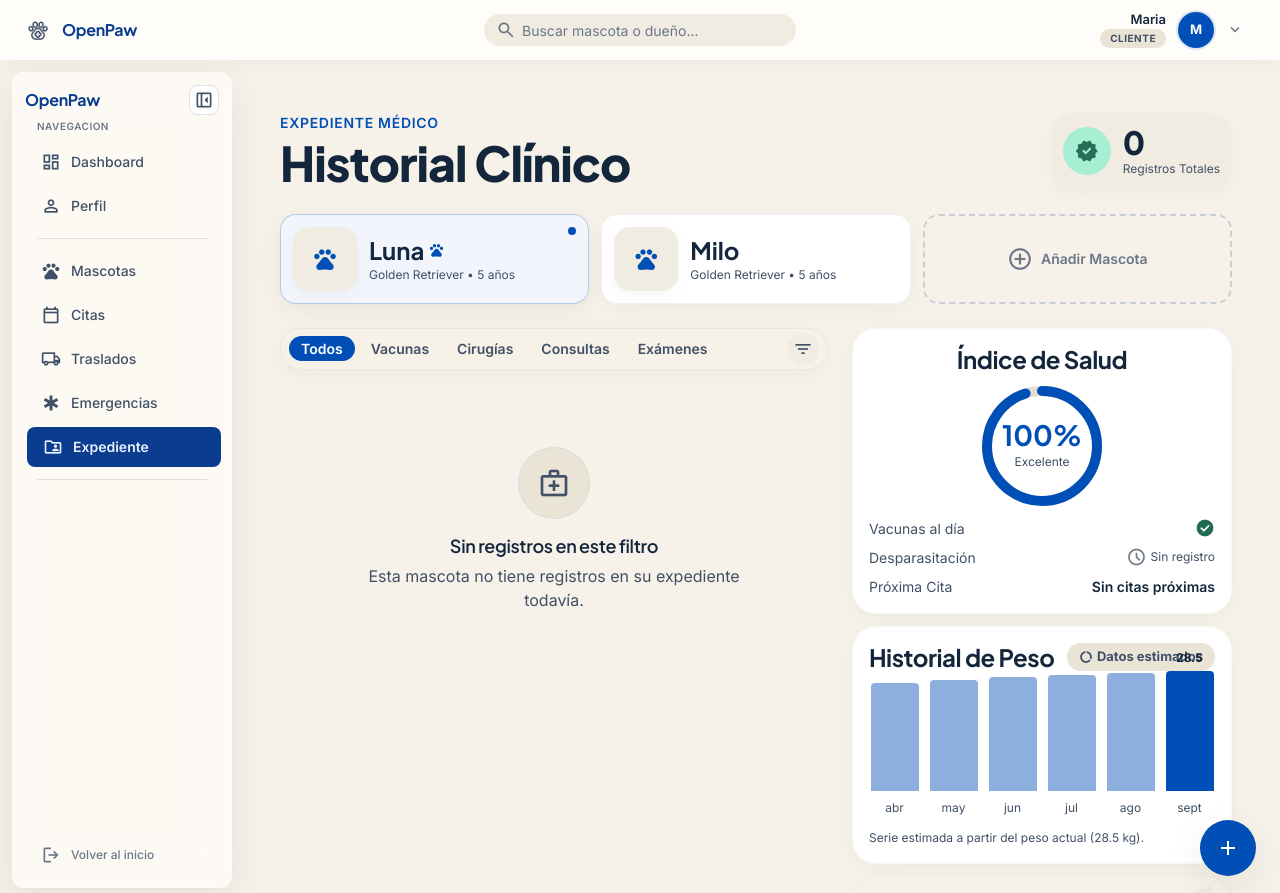
Test: ExpedientePage - expediente médico (T29) › bento de mascotas: activa con aria-pressed y clic cambia la selección
expect the 1st text "Golden Retriever • 5 años" is shown: met, box [369,267,515,282]
Click the button with aria-label "Seleccionar Milo".
click(646, 259)  # box [601,214,911,304]
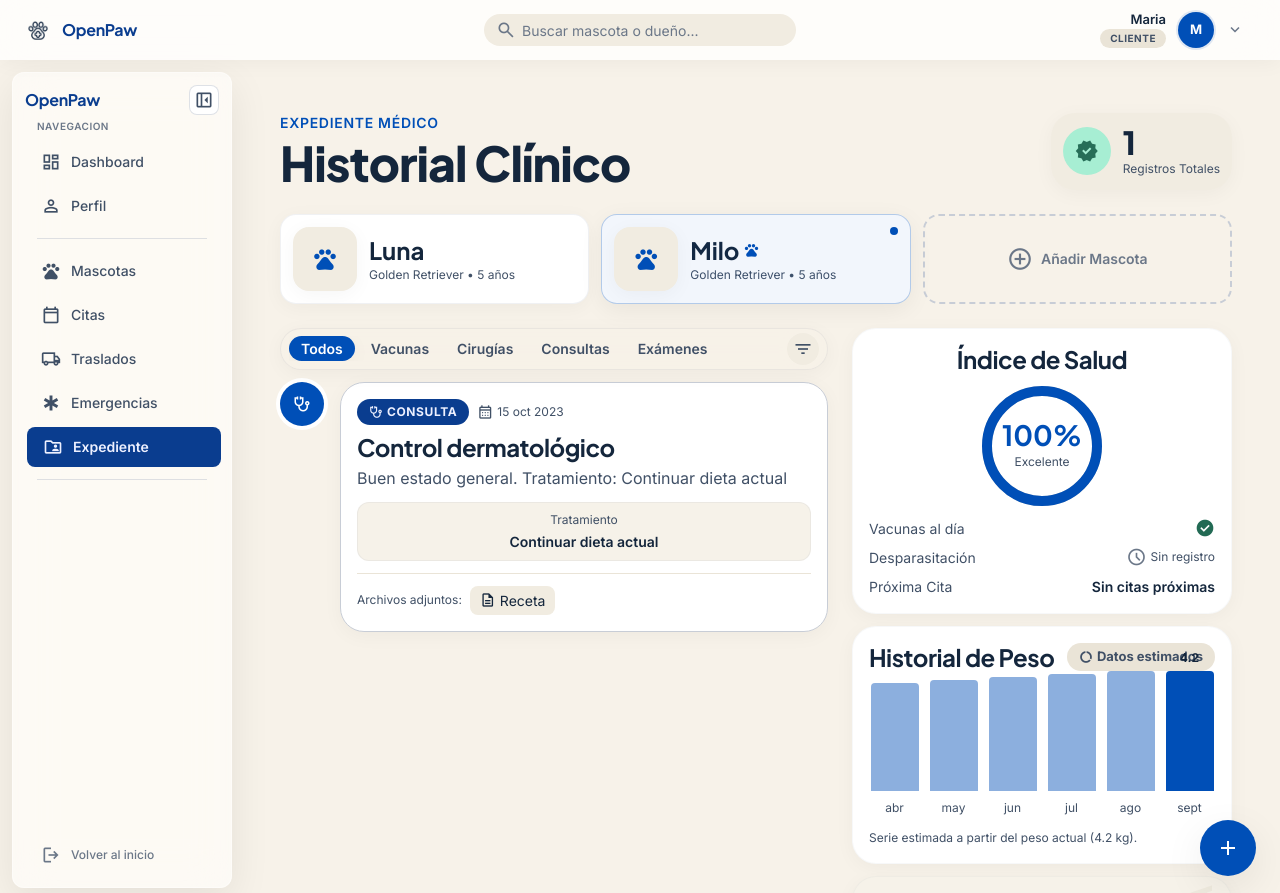
expect the heading "Control dermatológico" is shown: met, box [357,432,615,462]
